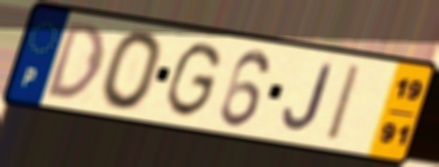6: (219, 46, 272, 129)
D: (44, 19, 108, 102)
G: (163, 39, 224, 121)
I: (324, 60, 365, 145)
J: (280, 61, 336, 134)
O: (98, 28, 166, 113)
